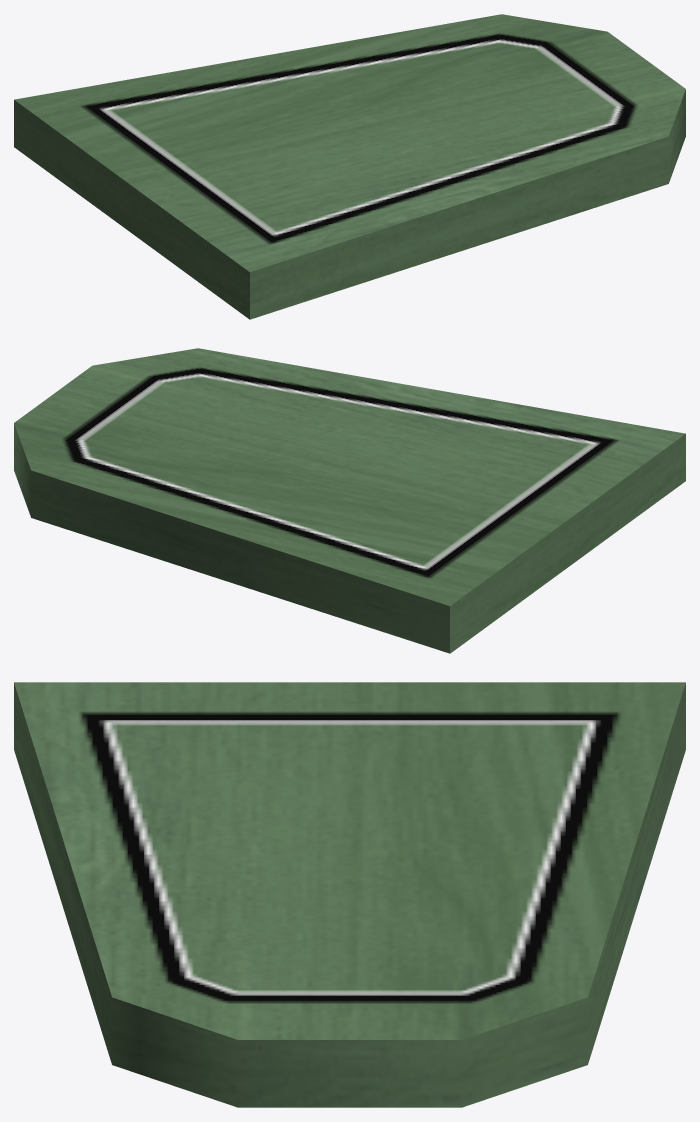
The model's file is SM_SJM_PandaegongA_01.fbx.
The picture shows the model from 3 angles, top to bottom: view 1: azimuth 30°, elevation 25°; view 2: azimuth 150°, elevation 25°; view 3: azimuth 270°, elevation 25°; orthographic projection. The views are drawn at different scales.
Parts seen in each view (by area): view 1: SM_SJM_PandaegongA_01; view 2: SM_SJM_PandaegongA_01; view 3: SM_SJM_PandaegongA_01.
Boxes of the visible parts, bbox=[...] form: SM_SJM_PandaegongA_01: bbox=[14, 14, 685, 319]; SM_SJM_PandaegongA_01: bbox=[14, 348, 685, 653]; SM_SJM_PandaegongA_01: bbox=[14, 682, 685, 1107].
Size of the model in its own units: 113 by 90 by 10.
1 material, 1 textured.
